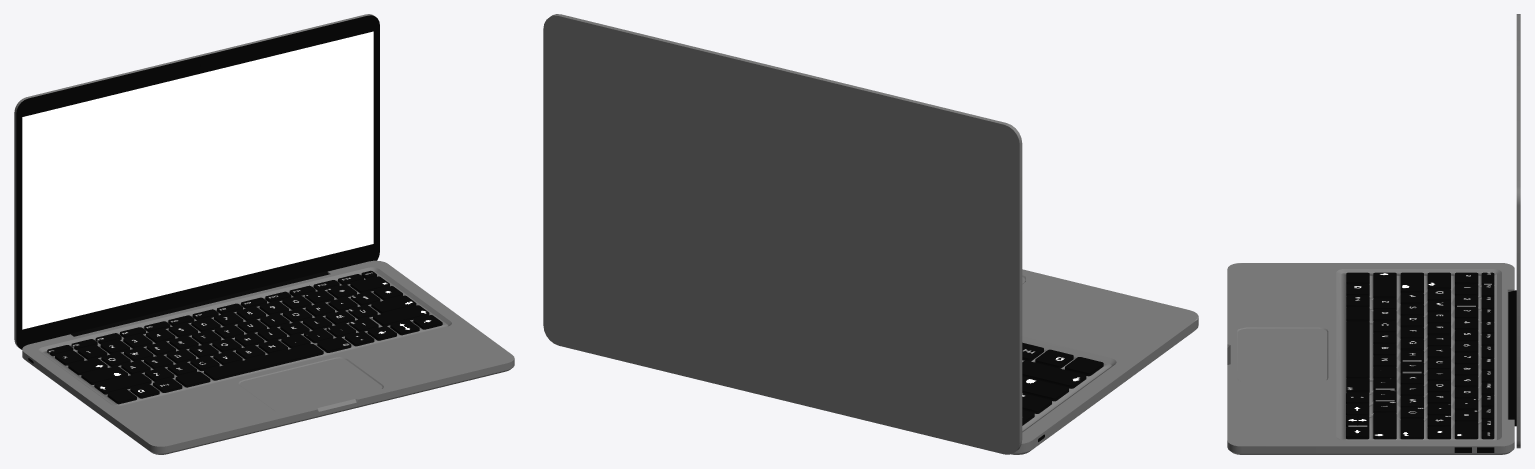
The picture shows the model from 3 angles, left to right: view 1: azimuth 30°, elevation 25°; view 2: azimuth 150°, elevation 25°; view 3: azimuth 270°, elevation 25°; orthographic projection. The views are drawn at different scales.
Parts seen in each view (by area): view 1: Screen, Frame, Keyboard_ComputerKeyboard_0; view 2: Screen, Frame, Keyboard_ComputerKeyboard_0; view 3: Frame, Keyboard_ComputerKeyboard_0, Screen.
Part boxes in pixels (x1=…): Screen: x1=14, y1=14, x2=379, y2=349; Frame: x1=22, y1=260, x2=514, y2=454; Keyboard_ComputerKeyboard_0: x1=47, y1=270, x2=442, y2=401; Screen: x1=543, y1=14, x2=1022, y2=454; Frame: x1=1011, y1=269, x2=1198, y2=454; Keyboard_ComputerKeyboard_0: x1=1022, y1=342, x2=1103, y2=422; Frame: x1=1227, y1=263, x2=1514, y2=454; Keyboard_ComputerKeyboard_0: x1=1346, y1=272, x2=1494, y2=436; Screen: x1=1508, y1=14, x2=1520, y2=448.
Size of the model in its own units: 30.4 by 20.56 by 20.5.
2 materials, 2 textured.
